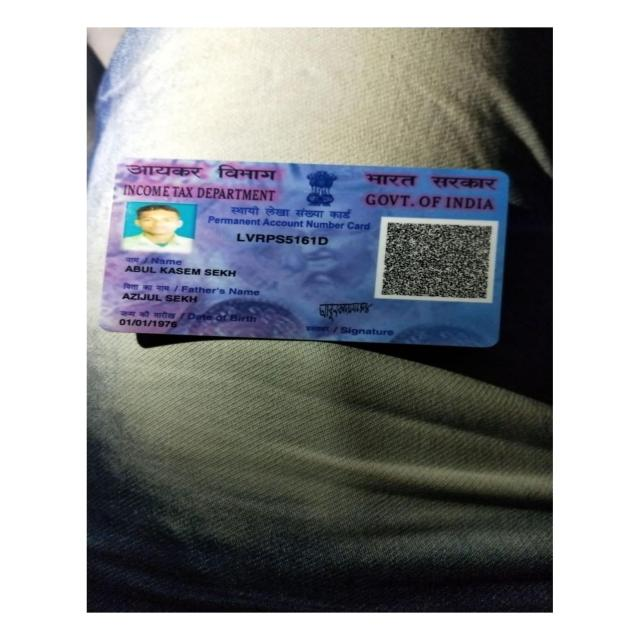pan_card: (99, 159, 511, 345)
